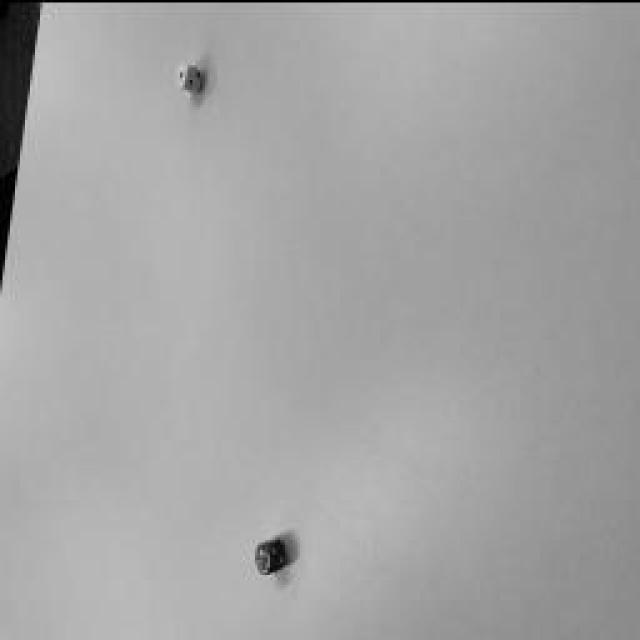dice_1: (178, 60, 188, 85)
dice_4: (255, 542, 270, 572)
